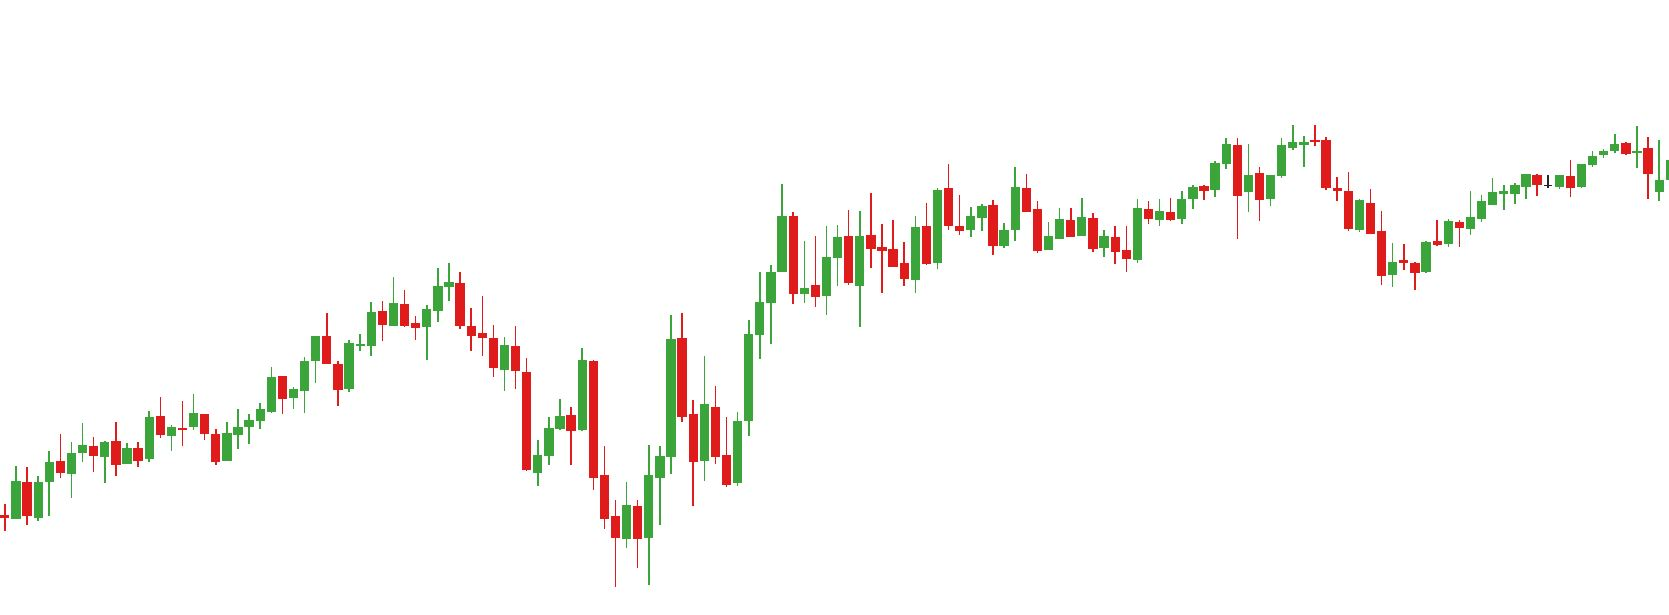sell: (573, 310, 689, 485), (1219, 121, 1319, 184), (387, 261, 467, 338)
